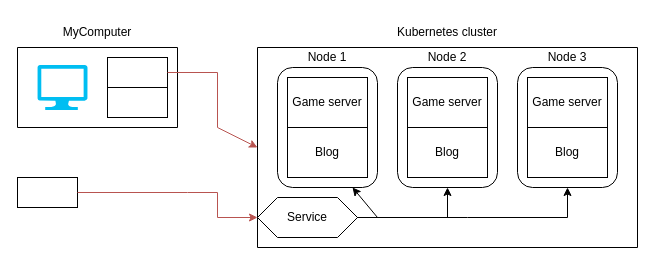
Image size: 655x265. Some labels were removed from this diagram. Here are the shapes that lost their labels. From the top down, the centre of each, then its label:
At [137,72]: "kubectl".
At [137,102]: "config".
At [47,192]: "HTTP".
